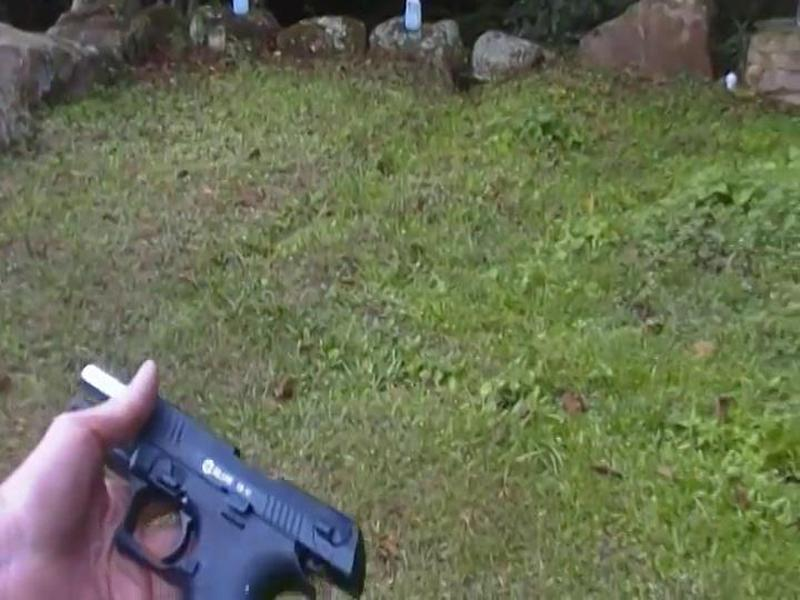Pistola: (60, 360, 379, 600)
